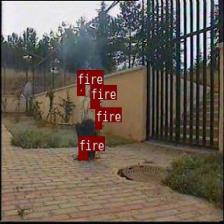fire: (78, 150, 88, 160), (90, 99, 99, 108), (77, 85, 84, 94), (95, 122, 101, 129)
